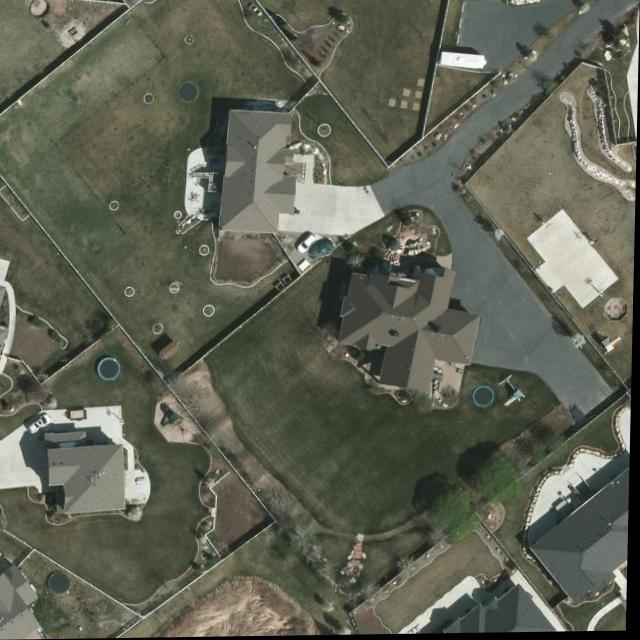vehicle: (309, 237, 336, 263), (26, 415, 57, 435), (296, 235, 320, 256)
